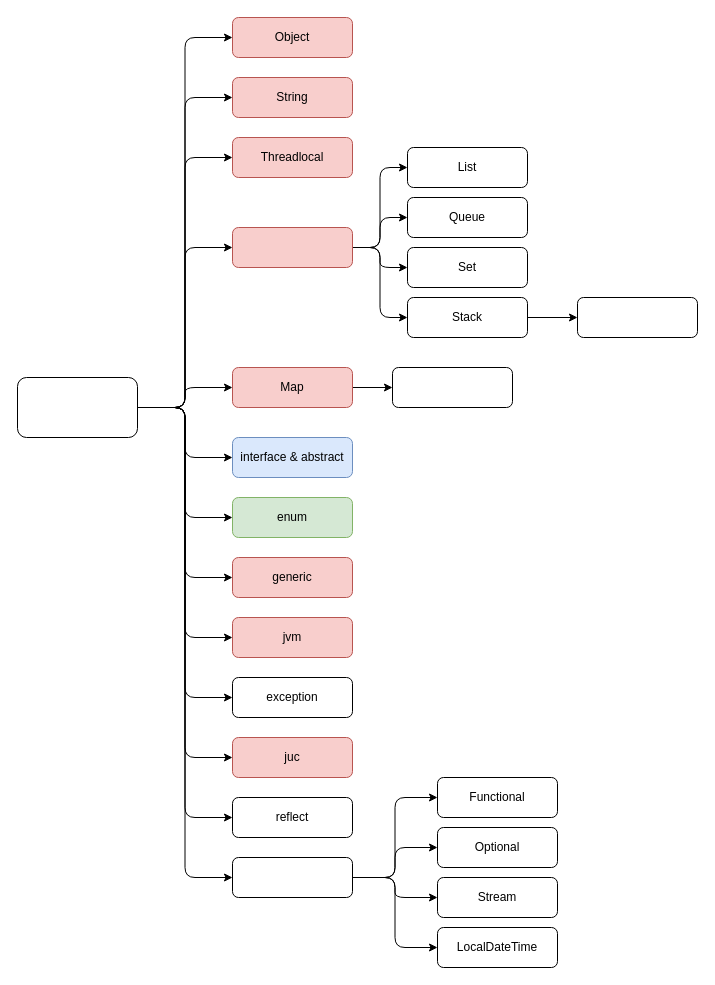
Some shapes in this 715 by 985 pixel diagram are drawn without their labels. The shapes that lost their labels are listed below. From the top down, each one's centre as x and y in pixels, then its label:
At (292,247): "Collection".
At (637,317): "Vector".
At (77,407): "java se".
At (452,387): "线程安全: CHM".
At (292,877): "java8".
